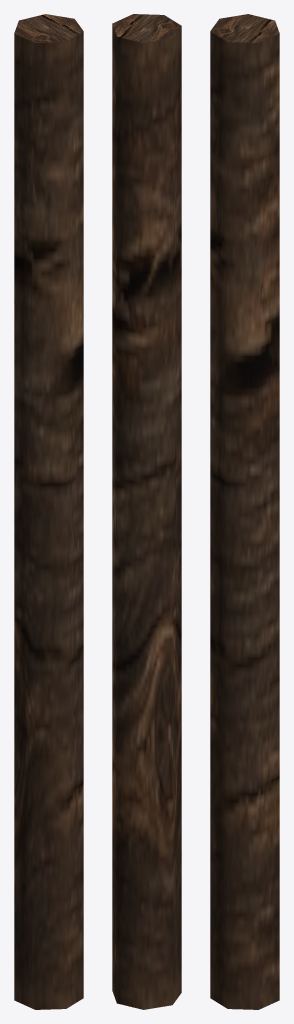
The model's file is post.glb.
3 views of the same model, side by side, from view 1: azimuth 30°, elevation 25°; view 2: azimuth 150°, elevation 25°; view 3: azimuth 330°, elevation 25° (orthographic).
Parts seen in each view (by area): view 1: part_0; view 2: part_0; view 3: part_0.
Part boxes in pixels (bbox=[...]): part_0: bbox=[14, 14, 83, 1009]; part_0: bbox=[112, 14, 181, 1009]; part_0: bbox=[210, 14, 279, 1009].
Bounding box in the file's own units: 0.1462 × 2.24 × 0.1426.
1 material, 1 textured.
